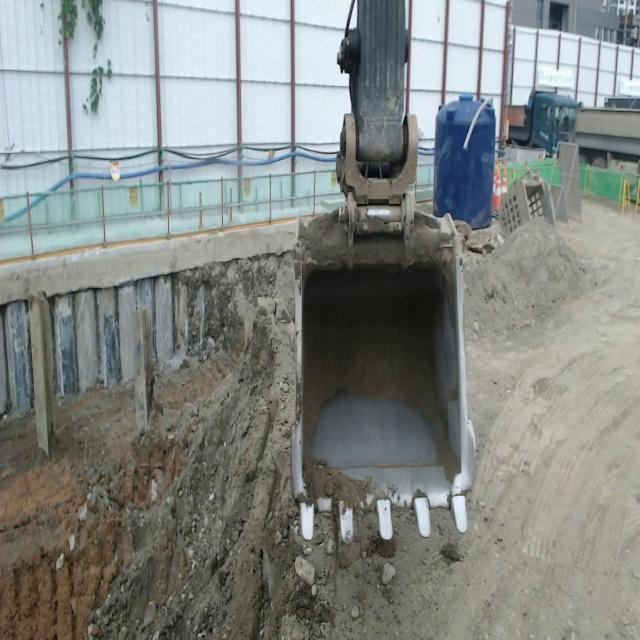red-sand: (0, 301, 299, 639)
white-sand: (425, 205, 640, 639), (464, 217, 594, 334)
